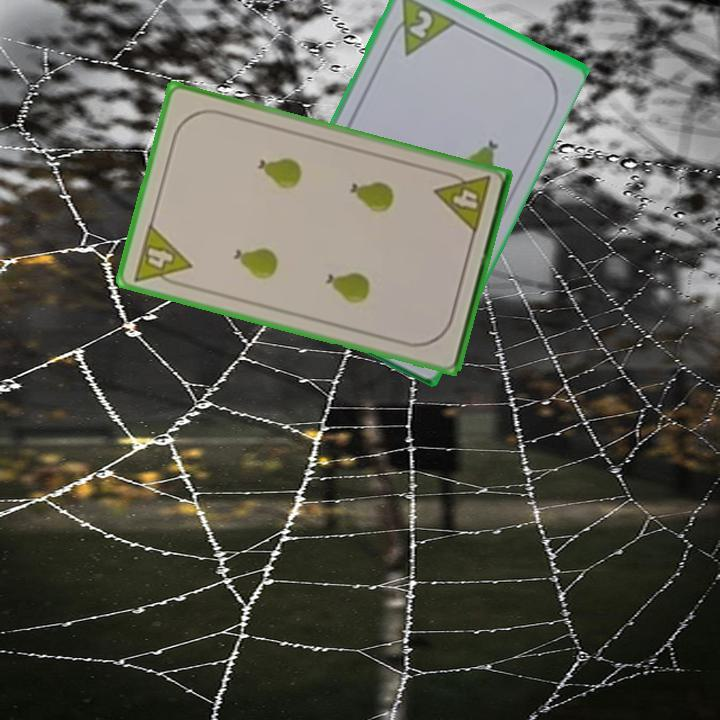2p: (405, 5, 435, 41)
4p: (129, 220, 194, 291), (431, 167, 494, 237)
